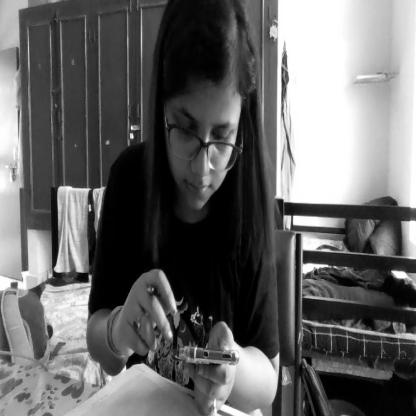Normal: (157, 0, 251, 224)
